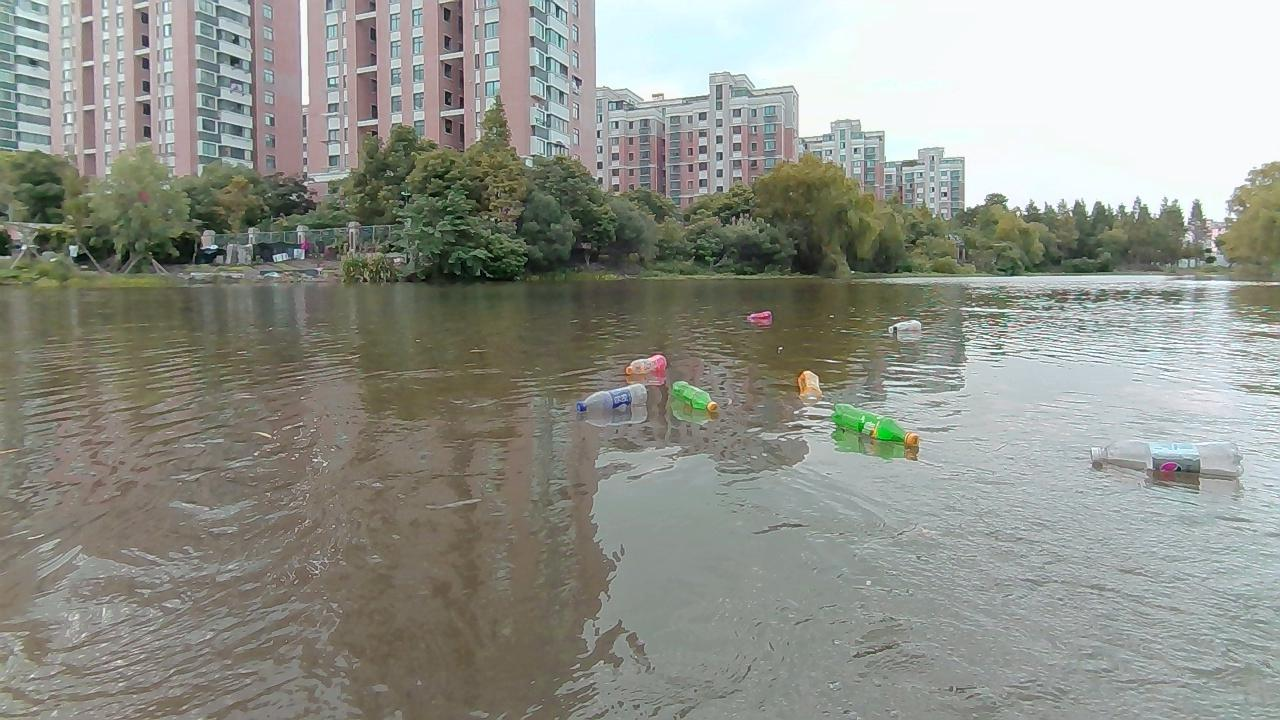Plastic: (1088, 438, 1245, 479), (829, 402, 921, 449), (577, 382, 649, 414), (670, 379, 719, 413), (625, 353, 669, 376), (797, 368, 823, 399), (887, 318, 922, 335), (746, 309, 774, 321)
